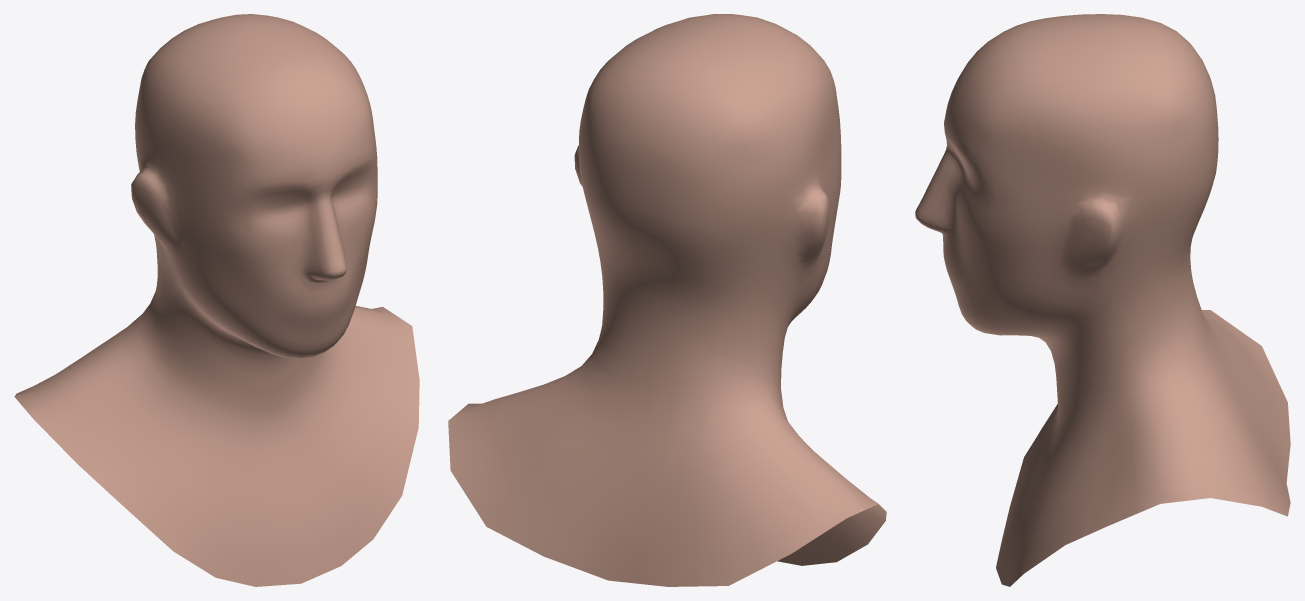
Rendered from cabeza.fbx.
3 renders of one model, left to right at view 1: azimuth 30°, elevation 25°; view 2: azimuth 150°, elevation 25°; view 3: azimuth 270°, elevation 25°, orthographic. The views are drawn at different scales.
Visible parts, largest first — view 1: BasicHead:basicHead; view 2: BasicHead:basicHead; view 3: BasicHead:basicHead.
Part boxes in pixels (<box>): BasicHead:basicHead: <box>14,14,419,586</box>; BasicHead:basicHead: <box>448,14,886,586</box>; BasicHead:basicHead: <box>915,14,1290,586</box>.
Bounding box in the file's own units: 1.5 × 1.96 × 1.23.
